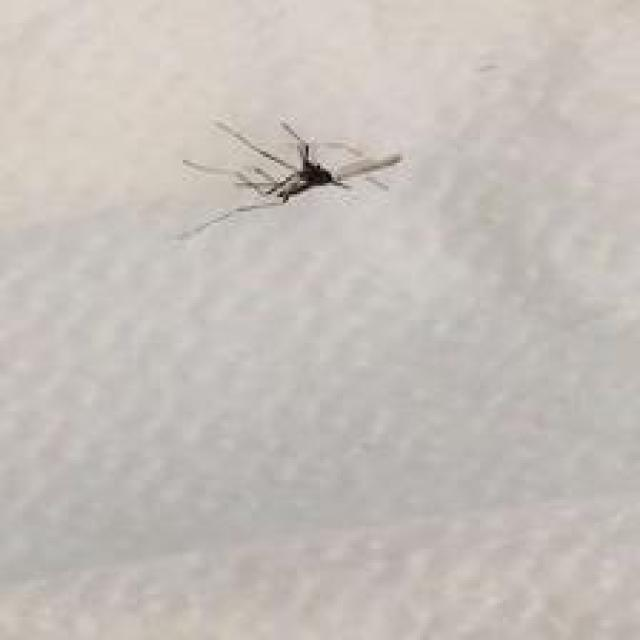Aedes albopictus: (177, 116, 403, 241)
